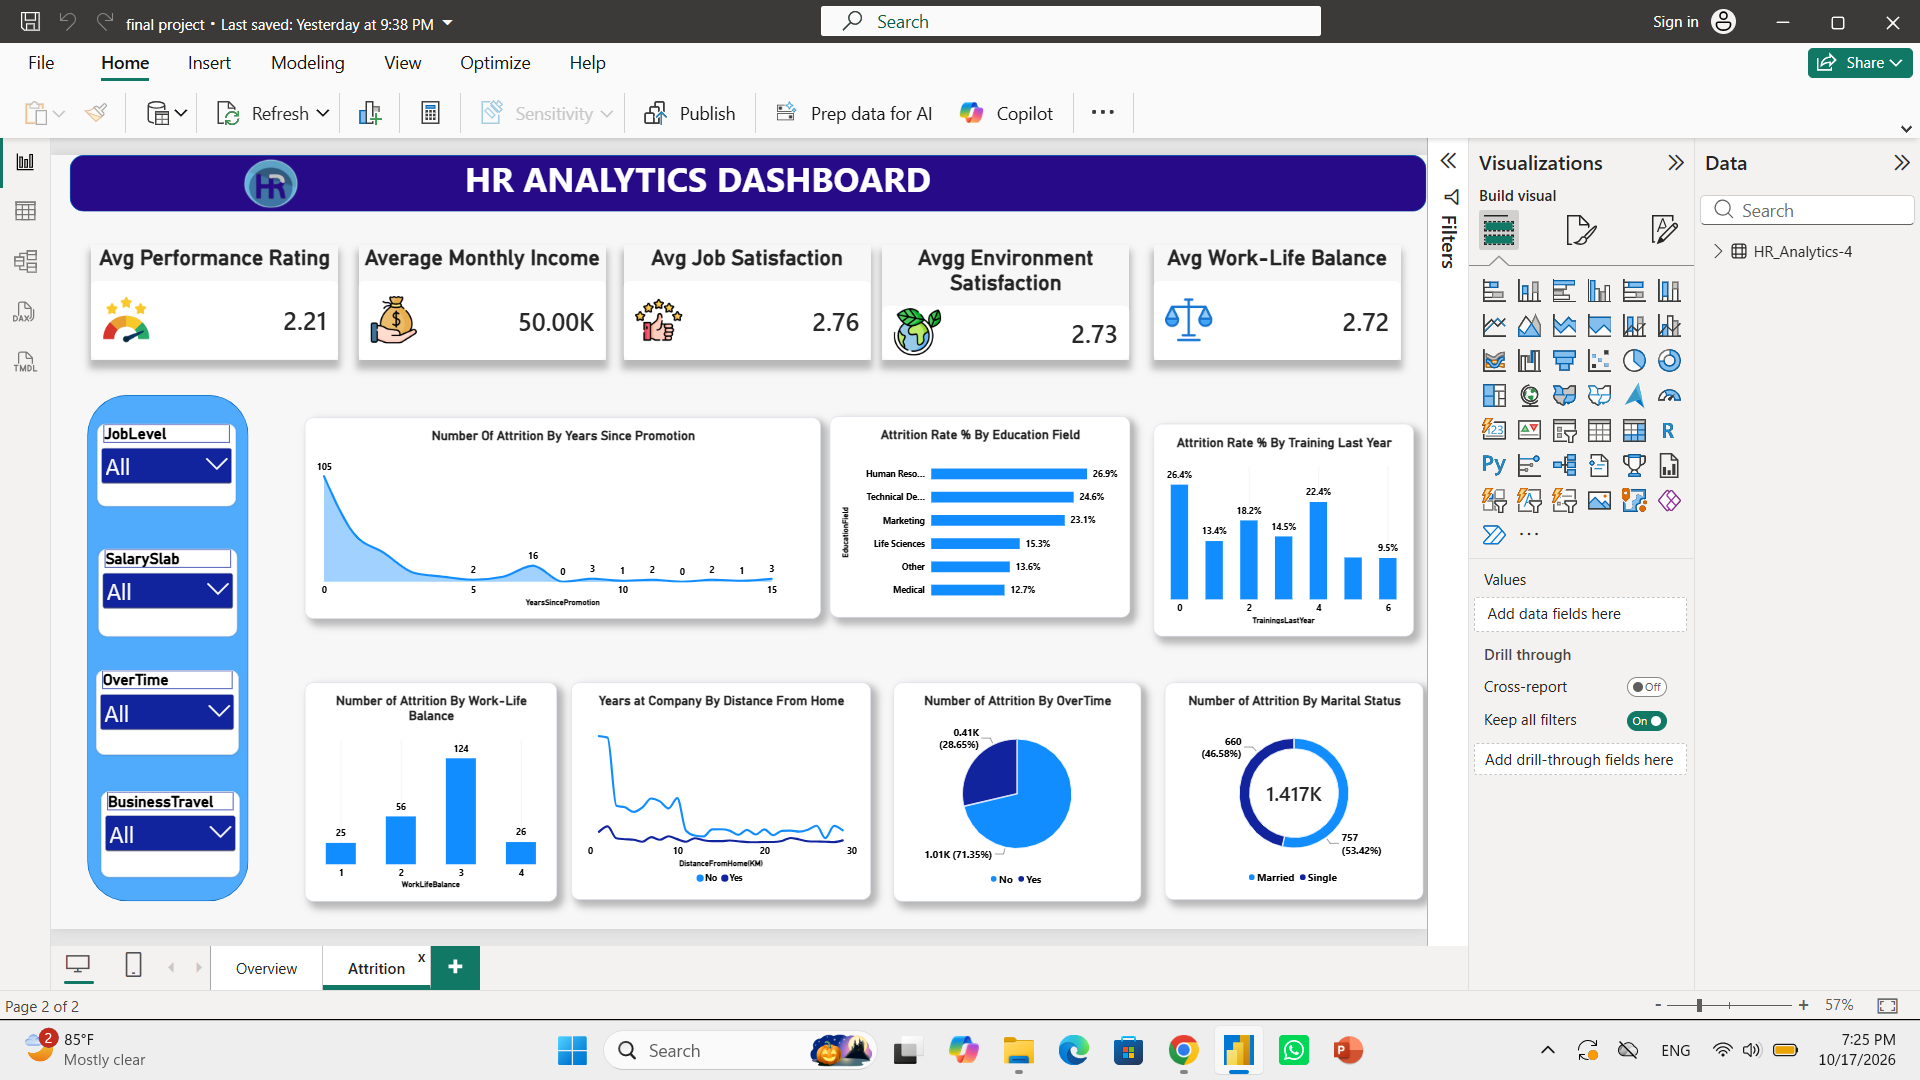

Layout of this report page (visuals, bound fields, positions):
{"tool":"powerbi","page":{"name":"Attrition","canvas":[1920,1080],"ordinal":1},"visuals":[{"type":"shape","box":[50.6,334.9,225,706.4],"z":0},{"type":"textbox","box":[50.6,704.7,256.4,195.3],"z":1000},{"type":"slicer","fields":{"Values":["HR_Analytics-4.SalarySlab"]},"box":[66.3,549.4,193.6,122.1],"z":2000},{"type":"slicer","fields":{"Values":["HR_Analytics-4.OverTime"]},"box":[62.8,718.6,198.8,118.6],"z":3000},{"type":"pieChart","title":"Number of Attrition By OverTime","fields":{"Category":["HR_Analytics-4.OverTime"],"Y":["CountNonNull(HR_Analytics-4.Attrition)"]},"box":[1175.6,736,345.3,305.2],"z":4000},{"type":"shape","box":[27,0,1893,79],"z":5000},{"type":"textbox","box":[306.9,0,1191.9,64.7],"z":6000},{"type":"image","box":[260.9,0,92.6,78.2],"z":7000},{"type":"donutChart","title":"Number of Attrition By Marital Status","fields":{"Category":["HR_Analytics-4.MaritalStatus"],"Y":["CountNonNull(HR_Analytics-4.Attrition)"]},"box":[1554.1,736,361,303.5],"z":8000},{"type":"lineChart","title":"Years at Company By Distance From Home","fields":{"Category":["HR_Analytics-4.DistanceFromHome(KM)"],"Y":["Sum(HR_Analytics-4.YearsatCompany)"],"Series":["HR_Analytics-4.Attrition"]},"box":[725.6,736,418.6,303.5],"z":9000},{"type":"clusteredColumnChart","title":"Number of Attrition By Work-Life Balance","fields":{"Category":["HR_Analytics-4.WorkLifeBalance"],"Y":["Sum(HR_Analytics-4.AttritionCount)"]},"box":[354.1,736,352.3,305.2],"z":10000},{"type":"areaChart","title":"Number Of Attrition By Years Since Promotion","fields":{"Category":["HR_Analytics-4.YearsSincePromotion"],"Y":["Sum(HR_Analytics-4.AttritionCount)"]},"box":[354.1,366.3,720.4,280.8],"z":11000},{"type":"barChart","title":"Attrition Rate % By Education Field","fields":{"Y":["HR_Analytics-4.Attrition Rate %"],"Category":["HR_Analytics-4.EducationField"]},"box":[1086.6,364.5,419,281],"z":12000},{"type":"clusteredColumnChart","title":"Attrition Rate % By Training Last Year","fields":{"Category":["HR_Analytics-4.TrainingsLastYear"],"Y":["HR_Analytics-4.Attrition Rate %"]},"box":[1539,374.7,363.6,296.7],"z":13000},{"type":"cardVisual","title":"Avg Performance Rating","fields":{"Data":["Avg(HR_Analytics-4.YearsSincePromotion)"]},"box":[55.8,124.9,345,160],"z":14000},{"type":"cardVisual","title":"Average Monthly Income","fields":{"Data":["Avg(HR_Analytics-4.MonthlyIncome)"]},"box":[428.3,124.9,345.7,160.6],"z":15000},{"type":"cardVisual","title":"Avg Job Satisfaction","fields":{"Data":["Avg(HR_Analytics-4.WorkLifeBalance)"]},"box":[798.5,124.9,345,160.6],"z":16000},{"type":"cardVisual","title":"Avgg Environment Satisfaction","fields":{"Data":["Avg(HR_Analytics-4.EnvironmentSatisfaction)"]},"box":[1159.9,124.9,345,160.6],"z":17000},{"type":"cardVisual","title":"Avg Work-Life Balance","fields":{"Data":["Avg(HR_Analytics-4.JobSatisfaction)"]},"box":[1539,124.9,345,160.6],"z":18000},{"type":"slicer","fields":{"Values":["HR_Analytics-4.JobLevel"]},"box":[64.5,375,193.6,115.1],"z":19000},{"type":"slicer","fields":{"Values":["HR_Analytics-4.BusinessTravel"]},"box":[69.8,887.8,193.6,120.3],"z":20000}]}

Visuals, with their boxes on the page's 1920x1080 design canvas (x1, y1, x2, y2). These are canvas units, not pixel positions in the 1920x1080 screenshot, which may show the page scaled, cropped or inside an application window:
shape: <bbox>51, 335, 276, 1041</bbox>
textbox: <bbox>51, 705, 307, 900</bbox>
slicer - HR_Analytics-4.SalarySlab: <bbox>66, 549, 260, 672</bbox>
slicer - HR_Analytics-4.OverTime: <bbox>63, 719, 262, 837</bbox>
"Number of Attrition By OverTime" pieChart: <bbox>1176, 736, 1521, 1041</bbox>
shape: <bbox>27, 0, 1920, 79</bbox>
textbox: <bbox>307, 0, 1499, 65</bbox>
image: <bbox>261, 0, 354, 78</bbox>
"Number of Attrition By Marital Status" donutChart: <bbox>1554, 736, 1915, 1040</bbox>
"Years at Company By Distance From Home" lineChart: <bbox>726, 736, 1144, 1040</bbox>
"Number of Attrition By Work-Life Balance" clusteredColumnChart: <bbox>354, 736, 706, 1041</bbox>
"Number Of Attrition By Years Since Promotion" areaChart: <bbox>354, 366, 1074, 647</bbox>
"Attrition Rate % By Education Field" barChart: <bbox>1087, 364, 1506, 646</bbox>
"Attrition Rate % By Training Last Year" clusteredColumnChart: <bbox>1539, 375, 1903, 671</bbox>
"Avg Performance Rating" cardVisual: <bbox>56, 125, 401, 285</bbox>
"Average Monthly Income" cardVisual: <bbox>428, 125, 774, 286</bbox>
"Avg Job Satisfaction" cardVisual: <bbox>798, 125, 1144, 286</bbox>
"Avgg Environment Satisfaction" cardVisual: <bbox>1160, 125, 1505, 286</bbox>
"Avg Work-Life Balance" cardVisual: <bbox>1539, 125, 1884, 286</bbox>
slicer - HR_Analytics-4.JobLevel: <bbox>64, 375, 258, 490</bbox>
slicer - HR_Analytics-4.BusinessTravel: <bbox>70, 888, 263, 1008</bbox>
